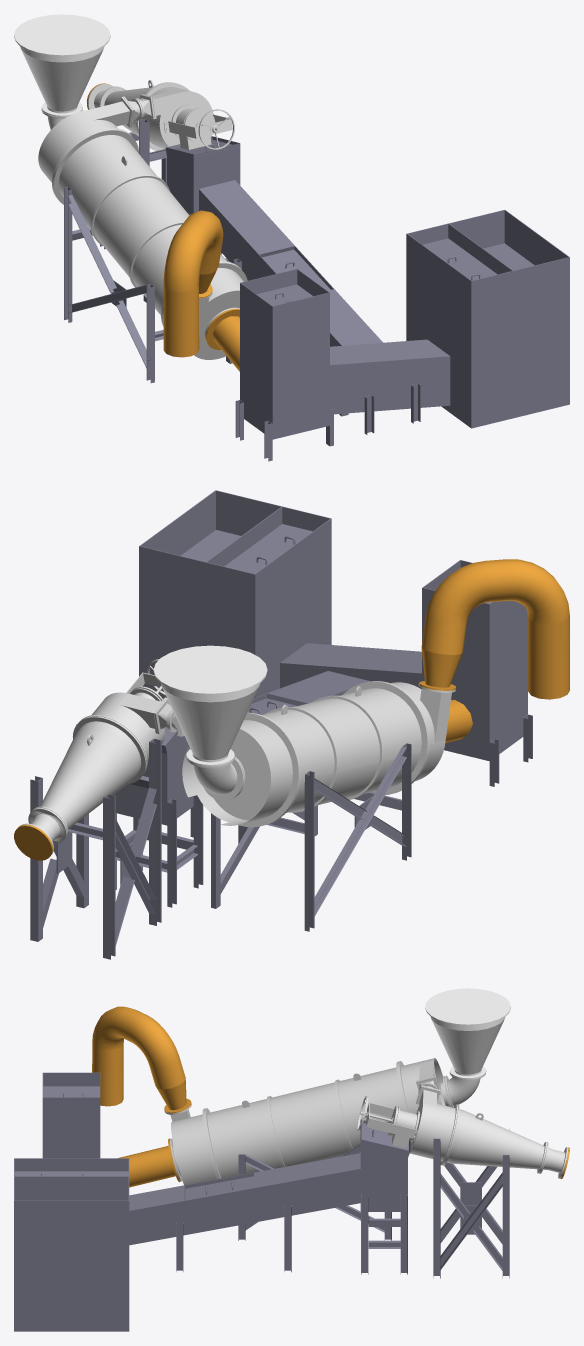
The model's file is SCX02.FBX.
The picture shows the model from 3 angles, top to bottom: view 1: azimuth 30°, elevation 25°; view 2: azimuth 150°, elevation 25°; view 3: azimuth 270°, elevation 25°; orthographic projection. The views are drawn at different scales.
Visible parts, largest first — view 1: SCX02; view 2: SCX02; view 3: SCX02.
Part boxes in pixels (x1,y1,x2,y2): SCX02: (14, 14, 569, 461); SCX02: (14, 490, 569, 959); SCX02: (14, 988, 569, 1331).
Bounding box in the file's own units: 4990 × 3311 × 7716.
